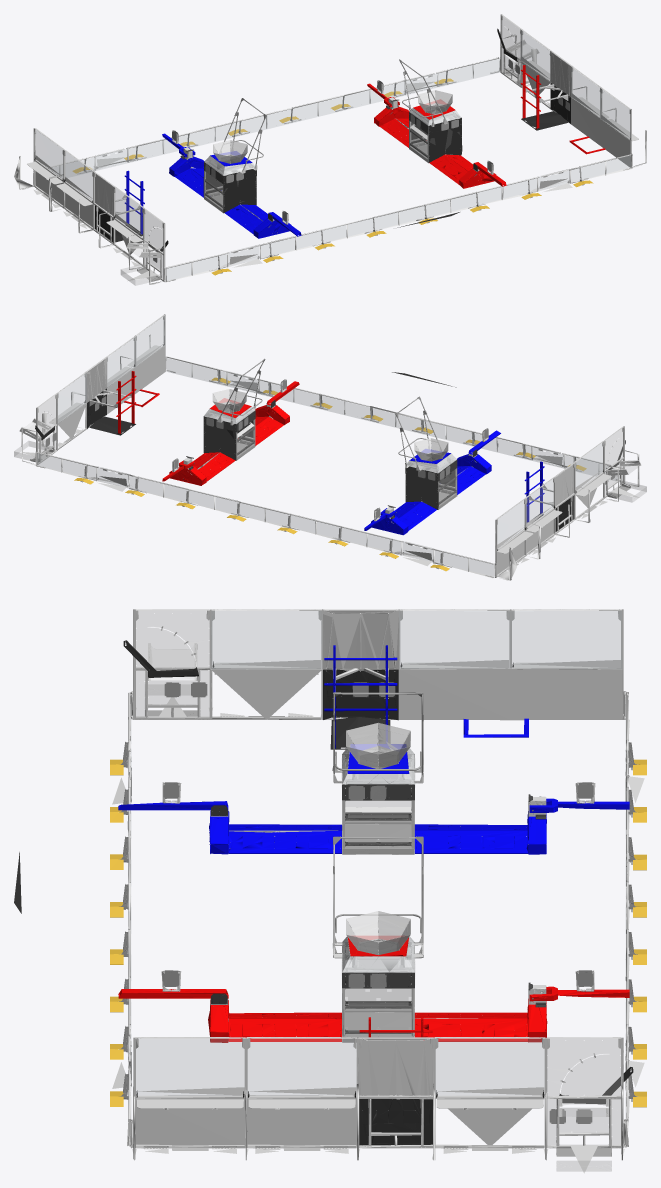
Rendered from rebuilt-lo.glb.
3 renders of one model, top to bottom at view 1: azimuth 30°, elevation 25°; view 2: azimuth 150°, elevation 25°; view 3: azimuth 270°, elevation 25°, orthographic. The views are drawn at different scales.
Visible parts, largest first — view 1: field.field_clear, field.mat_7, field.mat_0, field.mat_5, field.mat_3, field.mat_2, field.mat_10, field.mat_16, field.mat_12, field.mat_21, field.mat_9, field.field_frost (+3 smaller); view 2: field.field_clear, field.mat_7, field.mat_0, field.mat_5, field.mat_3, field.mat_2, field.mat_10, field.mat_17, field.mat_16, field.mat_12, field.mat_21, field.mat_9 (+4 smaller); view 3: field.mat_7, field.field_clear, field.mat_5, field.mat_2, field.mat_3, field.mat_0, field.mat_10, field.mat_16, field.mat_12, field.mat_9, field.mat_21, field.mat_15 (+3 smaller).
Part boxes in pixels (box(x1,y1,x2,y2)): field.field_clear: box(36, 30, 630, 280); field.mat_7: box(14, 14, 646, 284); field.mat_0: box(34, 28, 570, 252); field.mat_5: box(120, 15, 570, 285); field.mat_3: box(367, 65, 605, 188); field.mat_2: box(124, 133, 301, 238); field.mat_10: box(83, 60, 584, 281); field.mat_16: box(27, 60, 638, 242); field.mat_12: box(213, 90, 452, 163); field.mat_21: box(73, 78, 593, 275); field.mat_9: box(96, 59, 569, 264); field.field_frost: box(204, 108, 461, 175); field.field_clear: box(37, 316, 622, 576); field.mat_7: box(19, 314, 641, 580); field.mat_0: box(35, 344, 625, 550); field.mat_5: box(14, 359, 646, 509); field.mat_3: box(116, 371, 299, 485); field.mat_2: box(364, 430, 544, 535); field.mat_10: box(30, 360, 630, 568); field.mat_17: box(204, 417, 454, 508); field.mat_16: box(49, 345, 611, 553); field.mat_12: box(212, 389, 448, 461); field.mat_21: box(74, 377, 586, 571); field.mat_9: box(45, 379, 615, 561); field.mat_7: box(112, 609, 644, 1173); field.field_clear: box(131, 611, 625, 1118); field.mat_5: box(135, 611, 620, 1171); field.mat_2: box(118, 645, 629, 854); field.mat_3: box(118, 936, 629, 1042); field.mat_0: box(14, 640, 633, 1145); field.mat_10: box(119, 692, 637, 1156); field.mat_16: box(136, 662, 598, 1108); field.mat_12: box(346, 722, 410, 956); field.mat_9: box(130, 682, 593, 1123); field.mat_21: box(110, 759, 646, 1107); field.mat_15: box(342, 754, 532, 1034).
Size of the model in its own units: 18.55 by 3.08 by 10.36.
